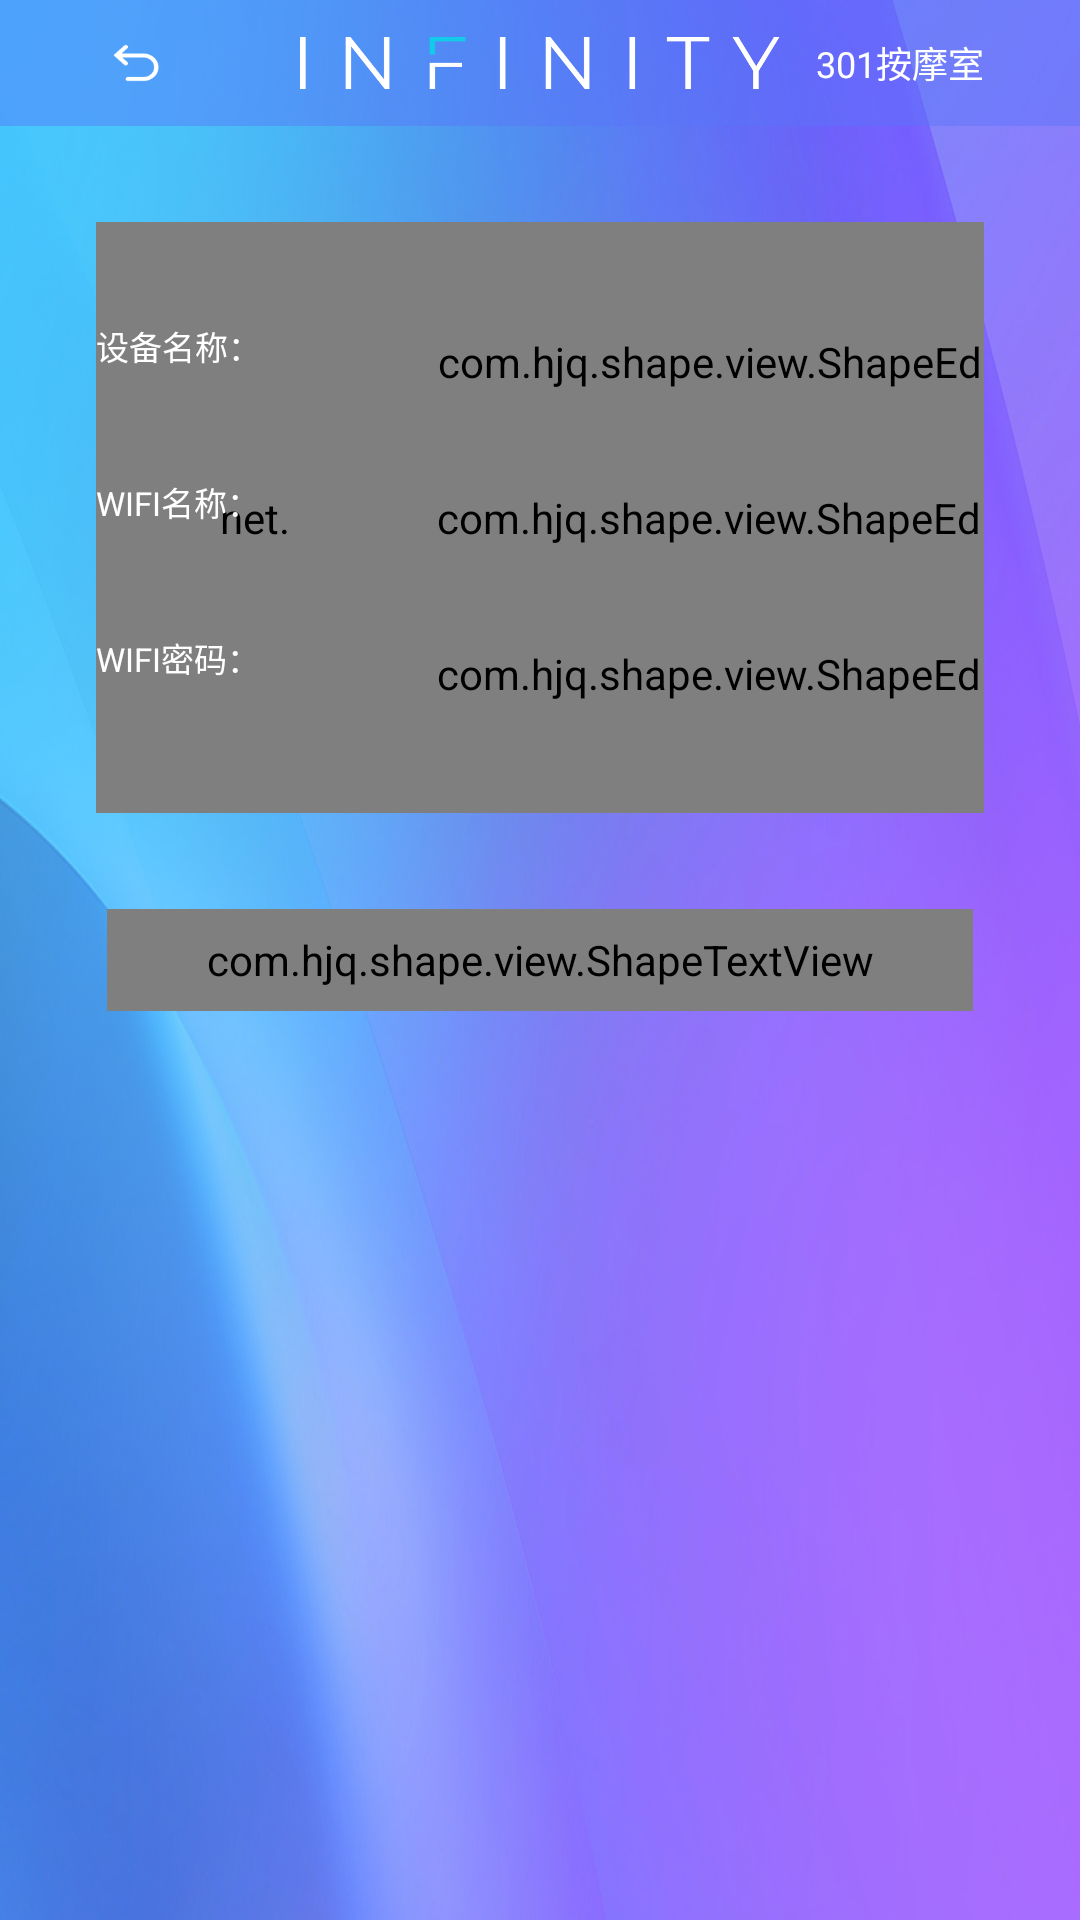

Named icons in this screenshot (1080*1920) and their bounding boxes, (x1, y1, x2, y2):
finish: (113, 45, 159, 81)
